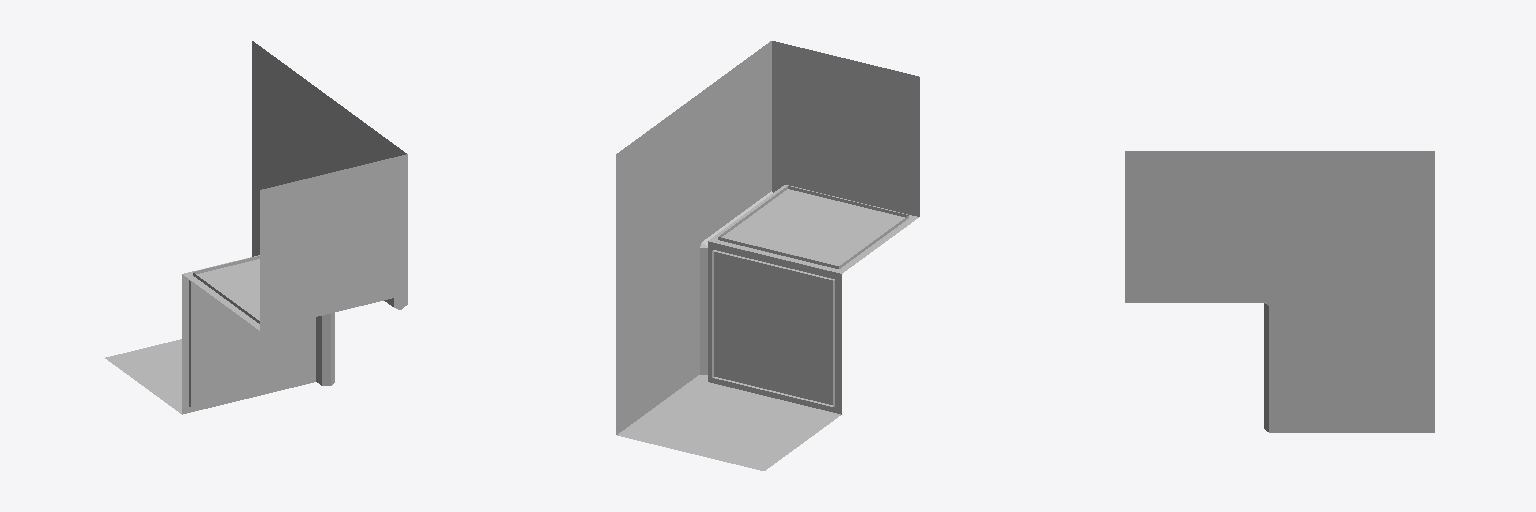
File: kitchenCornerCabinet.mtl.obj
3 views of the same model, side by side, from view 1: azimuth 30°, elevation 25°; view 2: azimuth 150°, elevation 25°; view 3: azimuth 270°, elevation 25° (orthographic).
Parts seen in each view (by area): view 1: Cube.001; view 2: Cube.001; view 3: Cube.001.
Boxes of the visible parts, x1=… form: Cube.001: x1=105, y1=41, x2=407, y2=414; Cube.001: x1=616, y1=41, x2=919, y2=470; Cube.001: x1=1125, y1=151, x2=1434, y2=432.
Bounding box in the file's own units: 11 × 20 × 20.